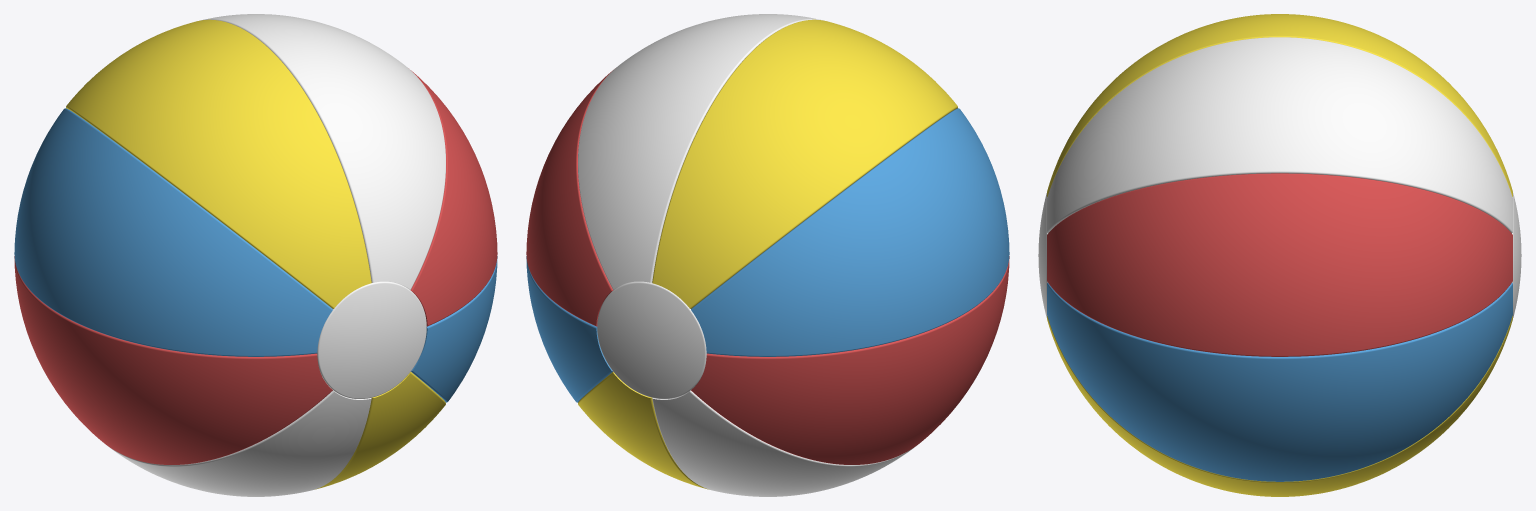
File: 비치볼수정5 - Copy.fbx
The picture shows the model from 3 angles, left to right: view 1: azimuth 30°, elevation 25°; view 2: azimuth 150°, elevation 25°; view 3: azimuth 270°, elevation 25°; orthographic projection.
Visible parts, largest first — view 1: 개체_3, 개체_10, 개체_4, 개체_9, 개체_5, 개체_8, 개체_2, 개체_6, 개체_7; view 2: 개체_3, 개체_10, 개체_4, 개체_9, 개체_5, 개체_8, 개체_1, 개체_6, 개체_7; view 3: 개체_8, 개체_9, 개체_7, 개체_10, 개체_6, 개체_1, 개체_2.
Part boxes in pixels (x1,y1,x2,y2): 개체_3: (14, 108, 332, 356); 개체_10: (66, 19, 371, 308); 개체_4: (14, 256, 332, 464); 개체_9: (202, 14, 445, 289); 개체_5: (109, 390, 371, 496); 개체_8: (410, 70, 497, 326); 개체_2: (317, 281, 426, 398); 개체_6: (315, 372, 445, 489); 개체_7: (411, 256, 497, 402); 개체_3: (691, 108, 1009, 356); 개체_10: (652, 19, 957, 308); 개체_4: (691, 256, 1009, 464); 개체_9: (578, 14, 823, 289); 개체_5: (652, 390, 914, 496); 개체_8: (526, 70, 613, 326); 개체_1: (597, 281, 706, 398); 개체_6: (578, 372, 708, 489); 개체_7: (526, 256, 612, 402); 개체_8: (1047, 173, 1512, 356); 개체_9: (1047, 37, 1512, 233); 개체_7: (1047, 283, 1512, 481); 개체_10: (1047, 14, 1512, 196); 개체_6: (1047, 316, 1512, 496); 개체_1: (1512, 193, 1521, 317); 개체_2: (1038, 193, 1047, 317).
Bounding box in the file's own units: 356 × 356 × 356.
